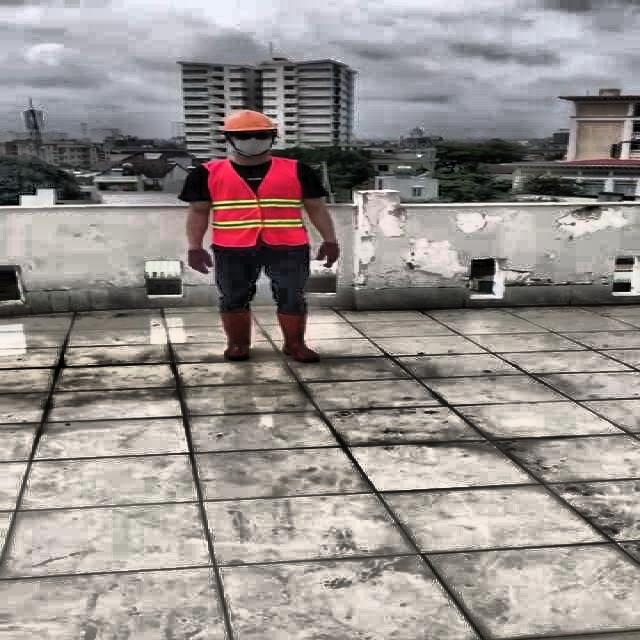safety_helmet: (220, 109, 278, 133)
safety_jacket: (199, 158, 313, 248)
